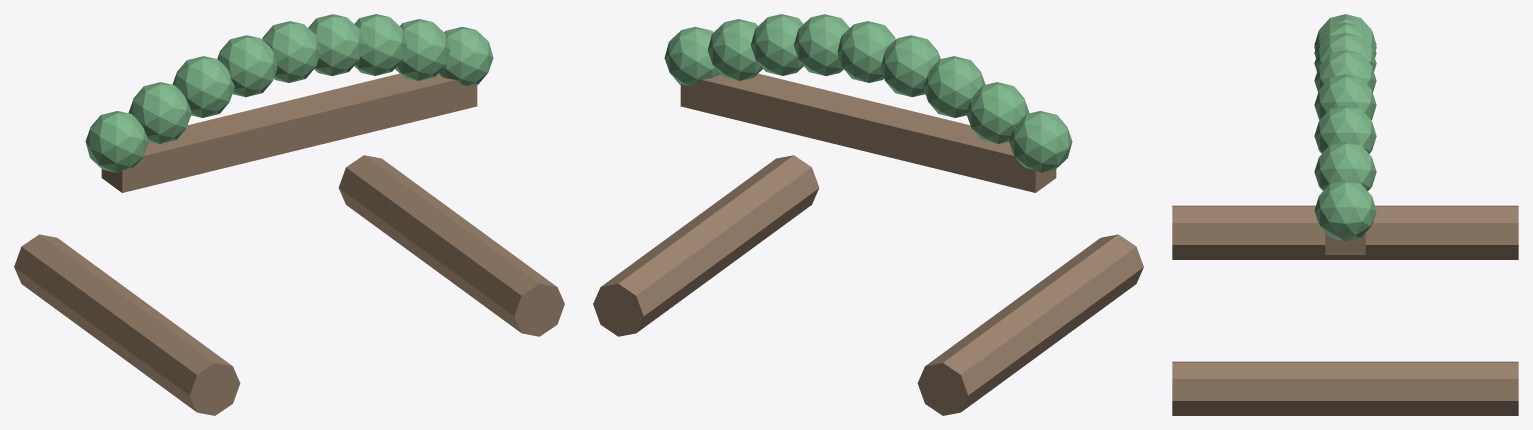
The model's file is vine_arch.glb.
3 renders of one model, left to right at view 1: azimuth 30°, elevation 25°; view 2: azimuth 150°, elevation 25°; view 3: azimuth 270°, elevation 25°, orthographic.
Parts seen in each view (by area): view 1: top, post-16, post16, leaf0, leaf1, leaf2, leaf3, leaf4, leaf5, leaf7, leaf6, leaf8; view 2: top, post-16, post16, leaf0, leaf1, leaf2, leaf3, leaf4, leaf5, leaf7, leaf6, leaf8; view 3: post16, post-16, leaf8, leaf7, leaf6, leaf5, leaf4, leaf3, leaf2, top, leaf1.
Boxes of the visible parts, bbox=[...] form: top: bbox=[101, 73, 477, 192]; post-16: bbox=[14, 234, 240, 415]; post16: bbox=[338, 155, 564, 336]; leaf0: bbox=[85, 111, 148, 172]; leaf1: bbox=[128, 82, 191, 143]; leaf2: bbox=[172, 56, 234, 117]; leaf3: bbox=[217, 35, 277, 97]; leaf4: bbox=[262, 21, 320, 82]; leaf5: bbox=[308, 14, 363, 75]; leaf7: bbox=[395, 19, 450, 80]; leaf6: bbox=[354, 14, 407, 75]; leaf8: bbox=[438, 26, 493, 85]; top: bbox=[680, 73, 1056, 192]; post-16: bbox=[917, 234, 1143, 415]; post16: bbox=[593, 155, 819, 336]; leaf0: bbox=[1009, 111, 1072, 172]; leaf1: bbox=[966, 82, 1029, 143]; leaf2: bbox=[923, 56, 985, 117]; leaf3: bbox=[880, 35, 940, 97]; leaf4: bbox=[837, 21, 895, 82]; leaf5: bbox=[794, 14, 849, 75]; leaf7: bbox=[707, 19, 762, 80]; leaf6: bbox=[750, 14, 803, 75]; leaf8: bbox=[664, 26, 719, 85]; post16: bbox=[1172, 361, 1518, 415]; post-16: bbox=[1172, 205, 1518, 259]; leaf8: bbox=[1314, 180, 1376, 241]; leaf7: bbox=[1314, 141, 1376, 190]; leaf6: bbox=[1314, 105, 1376, 153]; leaf5: bbox=[1314, 74, 1376, 120]; leaf4: bbox=[1314, 50, 1376, 92]; leaf3: bbox=[1314, 32, 1376, 71]; leaf2: bbox=[1314, 22, 1376, 57]; top: bbox=[1325, 233, 1365, 254]; leaf1: bbox=[1314, 16, 1376, 49].
Bounding box in the file's own units: 3.94 × 2.72 × 3.
